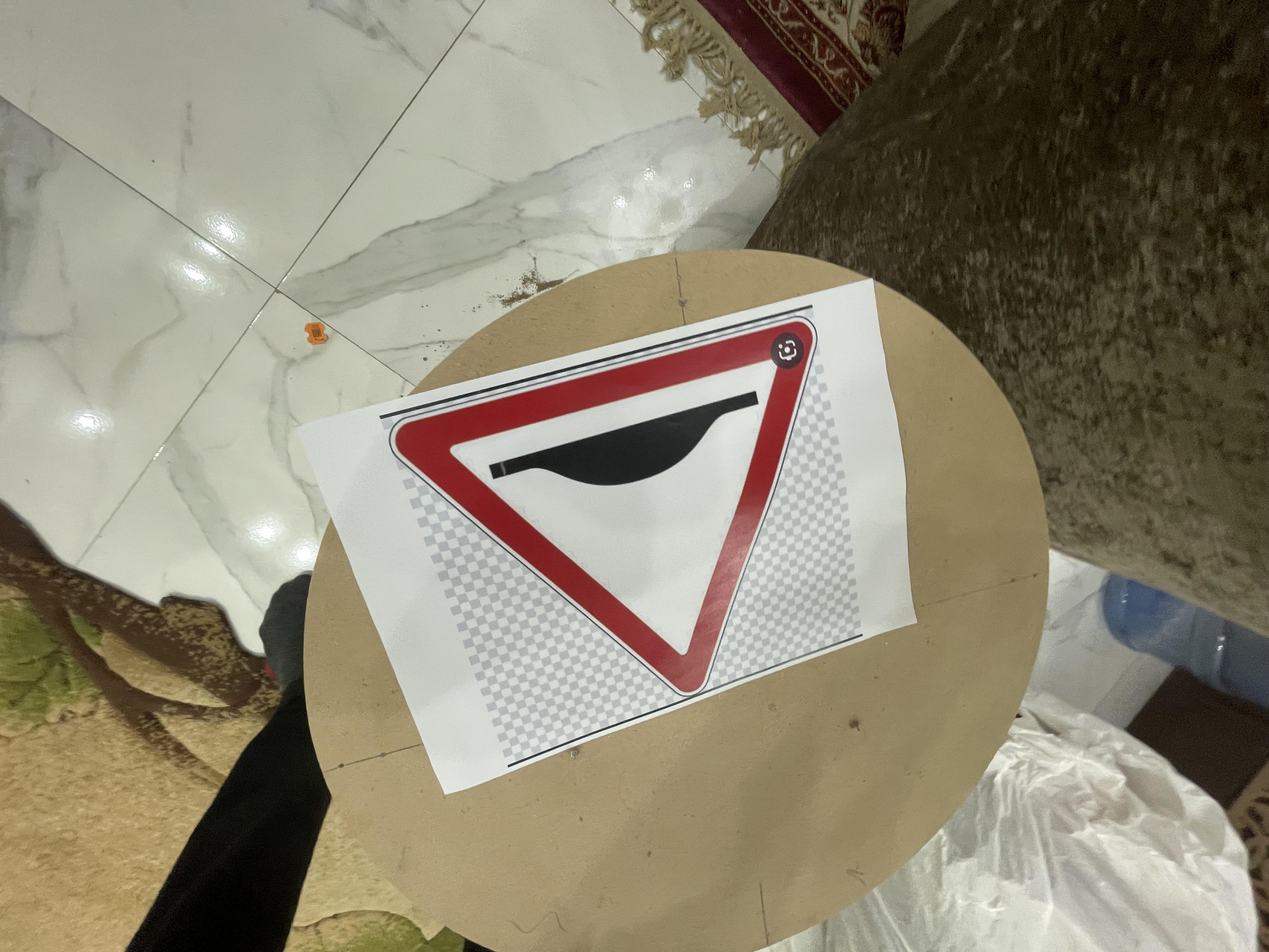Hump: (380, 314, 841, 704)
